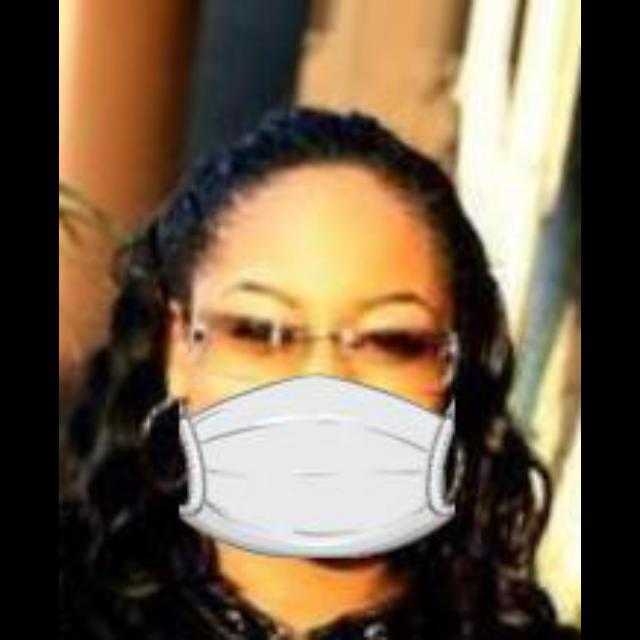suspicion: (58, 91, 442, 595)
